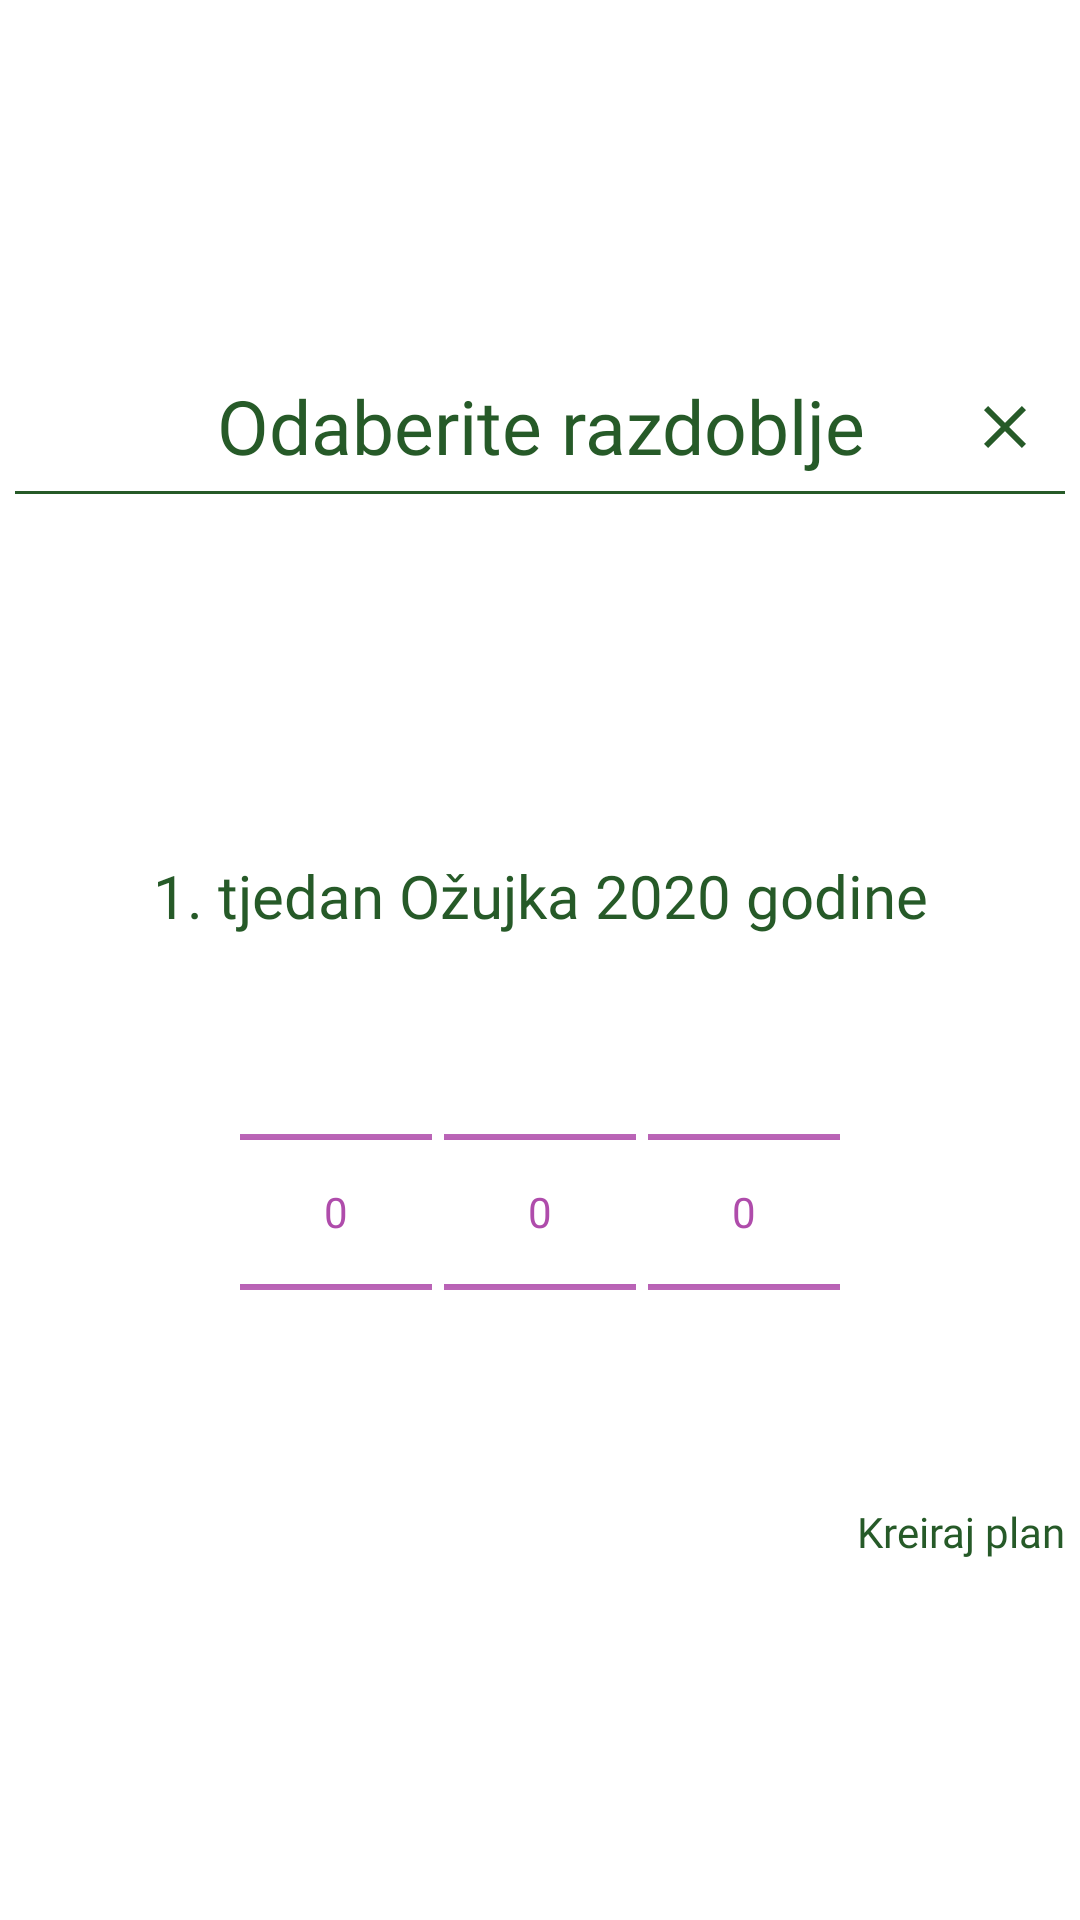

Where to tap for icons on this 1080px×1920px app screen, as (x=x, y=y):
close: (x=1005, y=427)
